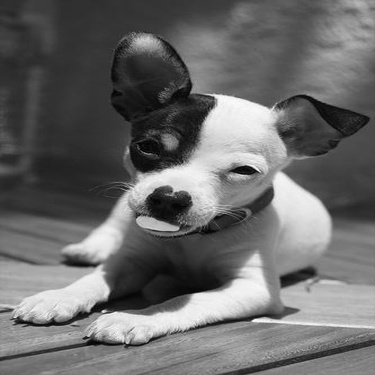dog: (4, 25, 373, 358)
